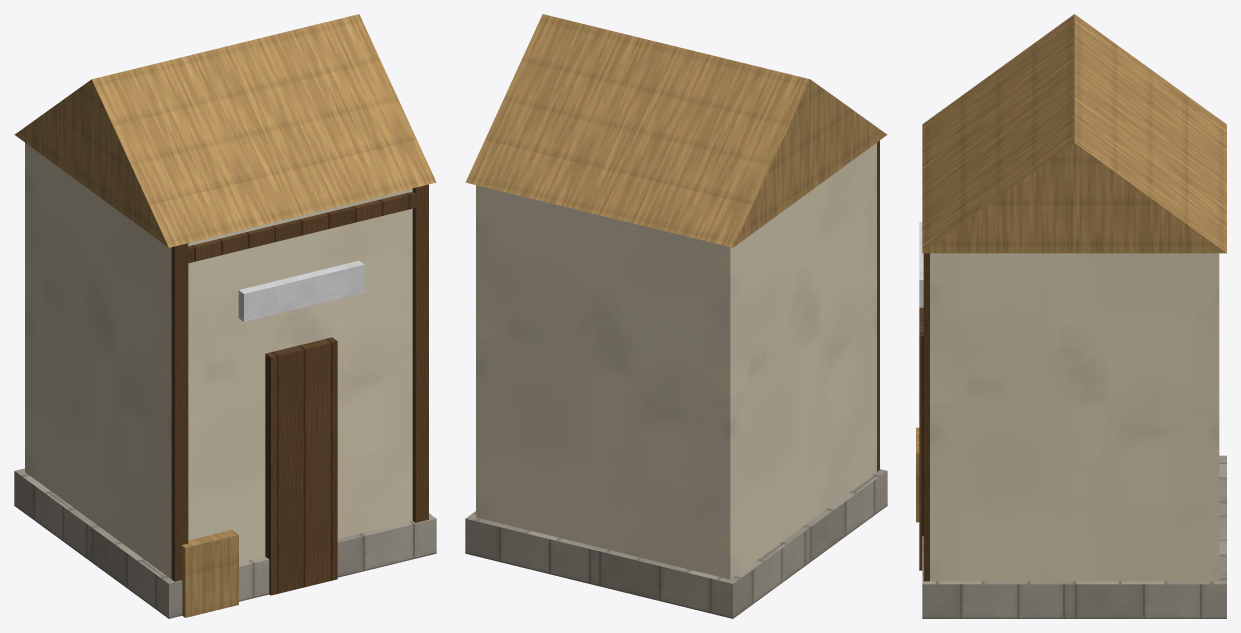
File: category.staking.t1.glb
3 views of the same model, side by side, from view 1: azimuth 30°, elevation 25°; view 2: azimuth 150°, elevation 25°; view 3: azimuth 270°, elevation 25° (orthographic).
Visible parts, largest first — view 1: building.category.staking.t1; view 2: building.category.staking.t1; view 3: building.category.staking.t1.
Boxes of the visible parts, x1,y1,x2,y2 form: building.category.staking.t1: (14, 14, 436, 618); building.category.staking.t1: (465, 14, 887, 618); building.category.staking.t1: (916, 14, 1226, 618).
Bounding box in the file's own units: 2 × 3.45 × 2.04.
5 materials, 5 textured.
